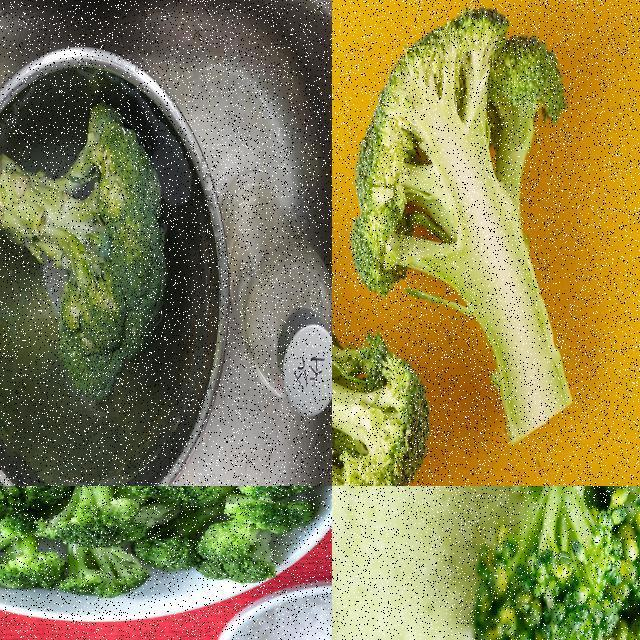broccoli: (346, 1, 574, 457), (0, 93, 171, 411), (332, 180, 433, 485), (465, 486, 639, 639), (37, 486, 147, 551), (193, 507, 280, 580), (120, 486, 247, 509)
